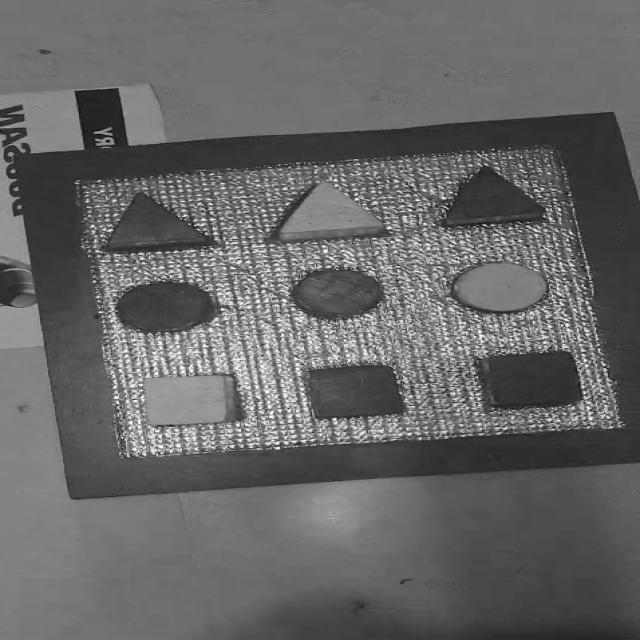bcircle: (114, 280, 223, 346)
bcube: (290, 363, 412, 425)
btriangle: (435, 164, 557, 240)
rcircle: (286, 265, 394, 326)
rcube: (462, 347, 592, 413)
rtriangle: (94, 194, 228, 264)
wb: (74, 146, 615, 455)
ycircle: (444, 257, 566, 324)
ycube: (145, 368, 241, 431)
ytriangle: (263, 180, 405, 254)
